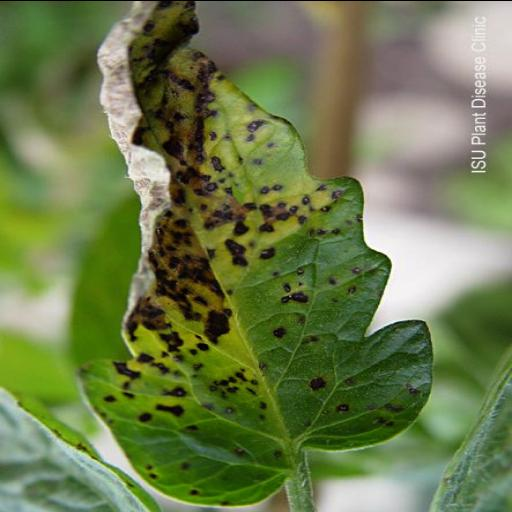disease_tomato: (75, 0, 437, 510)
